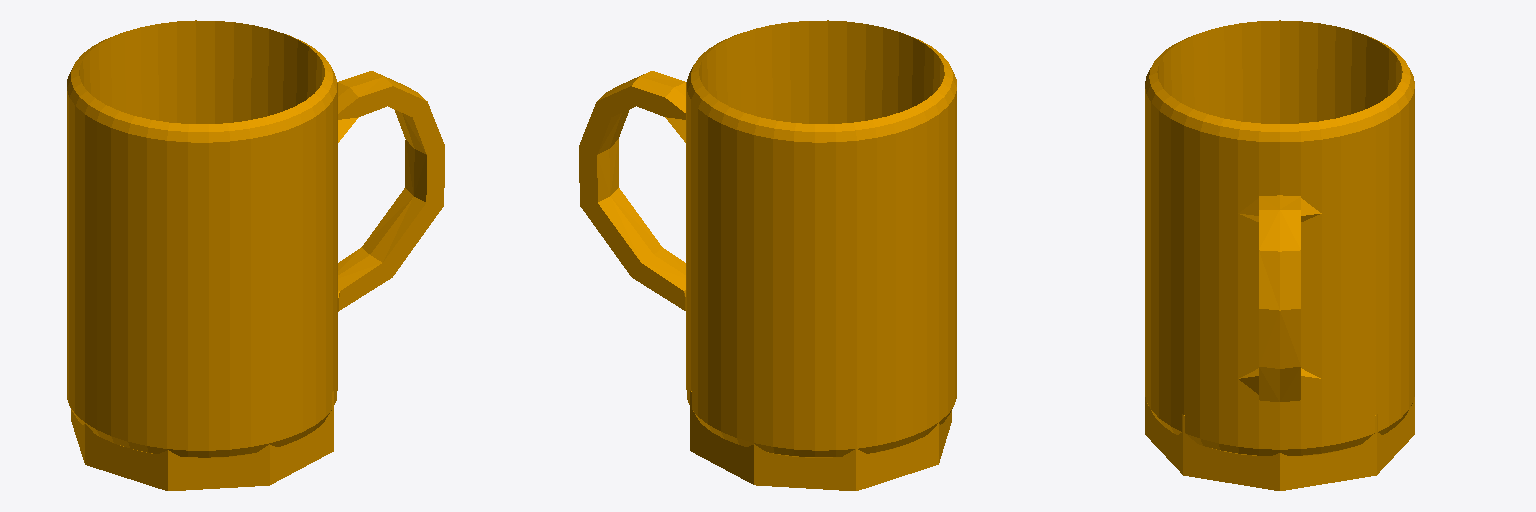
URDF robot description (cup_model):
<robot name="cup_model">
  <link name="cup">
    <inertial>
      <mass value="0.2" />
      <!-- center of mass (com) is defined w.r.t. link local coordinate system -->
      <origin xyz="0 0 0.06" /> 
      <inertia  ixx="0.1" ixy="0.0"  ixz="0.0"  iyy="0.1"  iyz="0.0"  izz="0.1" />
    </inertial>
    <visual>
      <!-- visual origin is defined w.r.t. link local coordinate system -->
      <origin xyz="0 0 0" rpy="0 0 0" />
      <geometry>
        <mesh filename="meshes/cup.dae" scale=".1 .1 .1" />
      </geometry>
    </visual>
    <collision>
      <!-- collision origin is defined w.r.t. link local coordinate system -->
      <origin xyz="0 0 0" rpy="0 0 0" />
      <geometry>
        <mesh filename="meshes/cup.dae" scale=".1 .1 .1" />
      </geometry>
    </collision>
  </link>
</robot>

--- Facts derived from the render (not from the file) ---
3 views of the same robot in one strip: view 1: azimuth 30°, elevation 25°; view 2: azimuth 150°, elevation 25°; view 3: azimuth 270°, elevation 25° (orthographic).
Model cup_model with 1 links and 0 joints (none), rooted at cup, posed every joint at zero.
Visible links, largest first — view 1: cup; view 2: cup; view 3: cup.
Link boxes in pixels (x1,y1,x2,y2): cup: (67, 20, 444, 490); cup: (579, 20, 956, 490); cup: (1145, 20, 1414, 490).
Size in the robot's own frame: 0.2248 by 0.15 by 0.222 metres.
Meshes: 1 distinct files referenced, 1 mesh visuals loaded (1 Collada DAE).